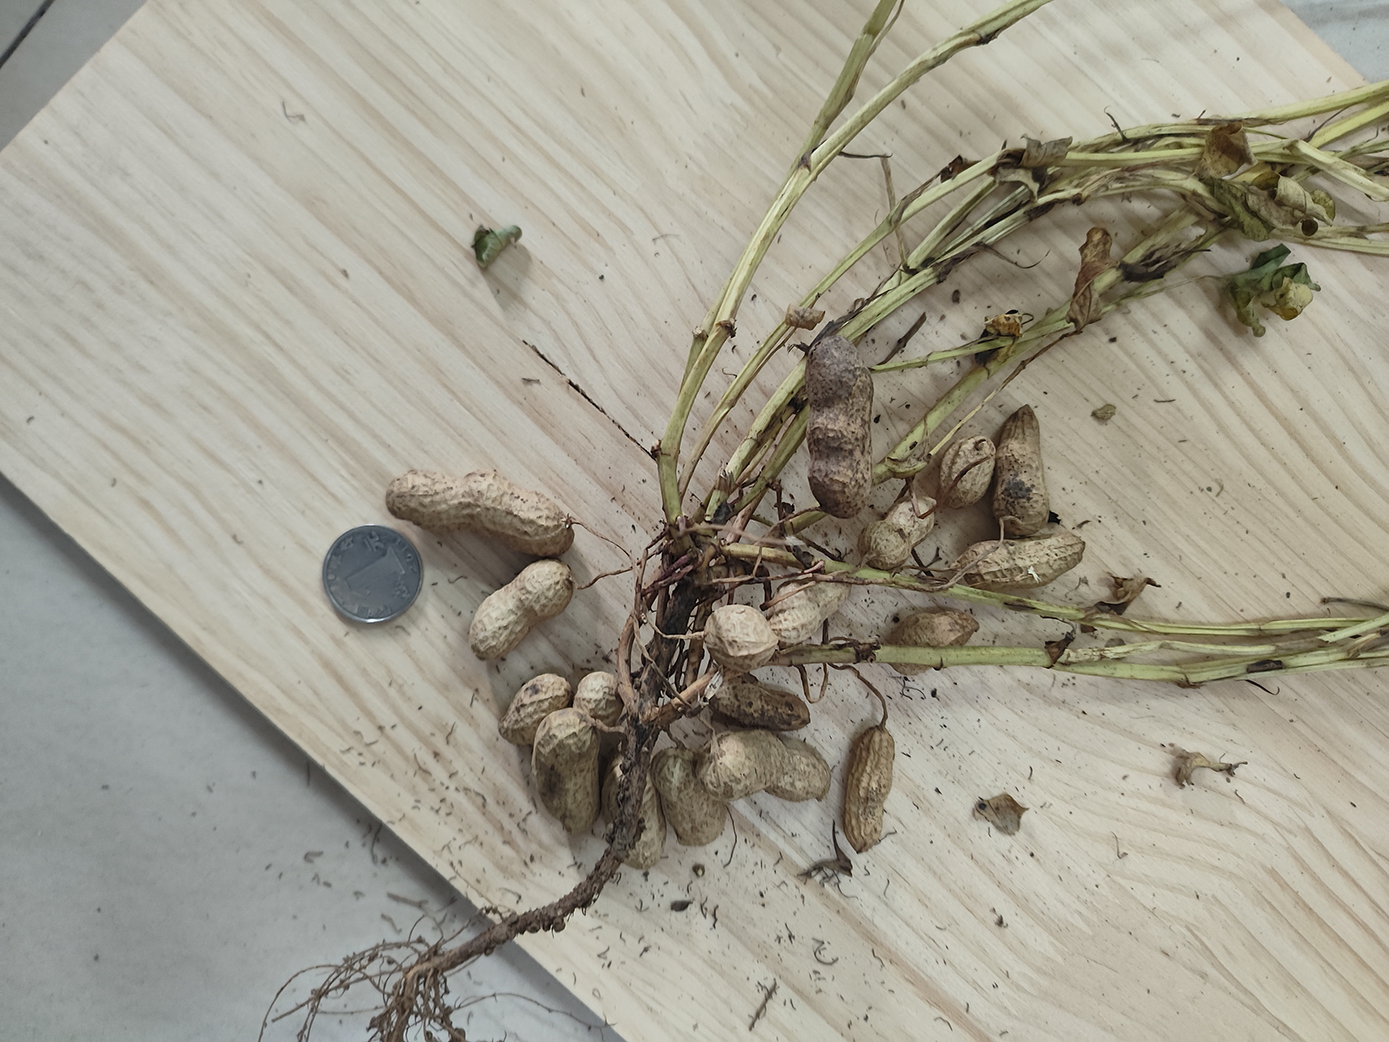h: (387, 467, 574, 558), (468, 559, 572, 661), (532, 709, 606, 836), (697, 732, 832, 802), (599, 754, 667, 872), (959, 532, 1085, 590), (653, 749, 727, 847), (879, 609, 980, 678), (844, 727, 892, 856), (859, 498, 937, 570), (707, 679, 812, 731), (768, 578, 850, 645), (498, 672, 569, 746), (704, 606, 776, 665), (939, 430, 993, 509), (572, 671, 621, 740)
l: (805, 335, 875, 517)
